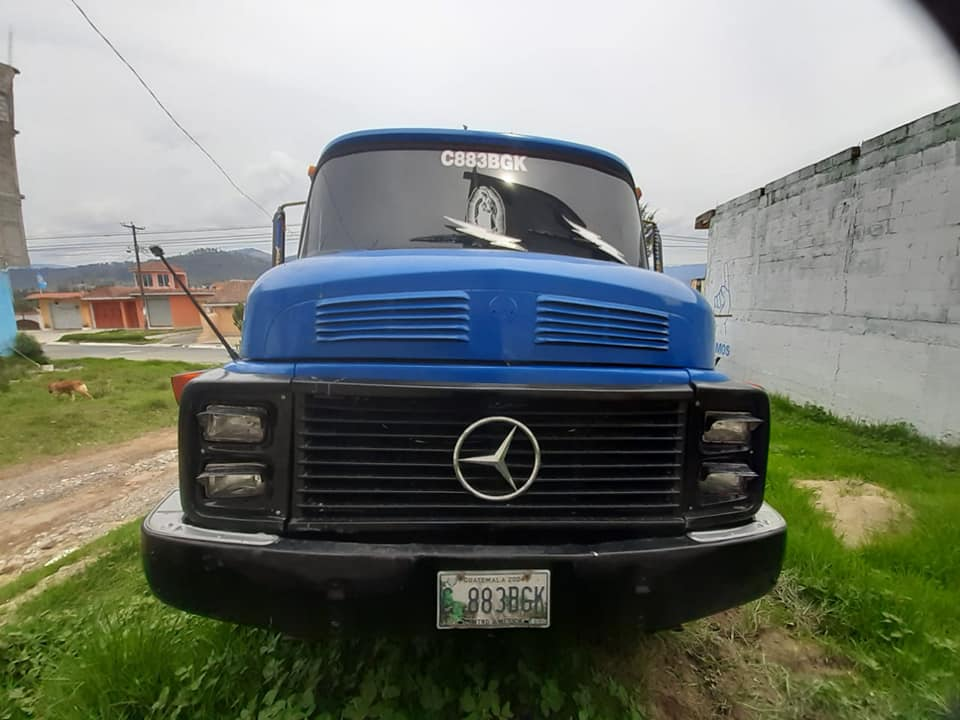camion: (137, 122, 789, 649)
